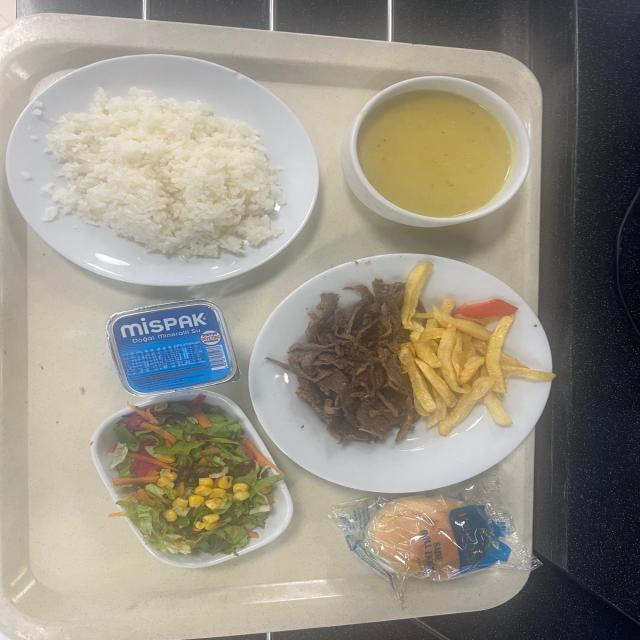ana_yemek: (4, 52, 314, 282), (247, 258, 548, 492)
corba: (343, 76, 528, 224)
yan_yemek: (88, 392, 291, 566)
